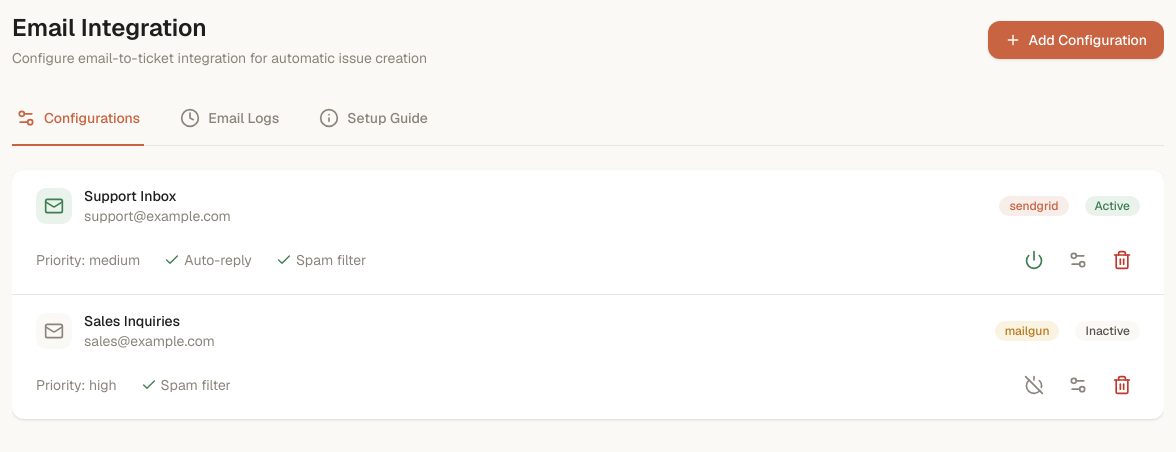
Scenario: EmailIntegrationPage › Email Logs Tab › shows empty state when no logs
The image size is (1176, 452).
Click the button "Email Logs". click: (230, 119)
box: 176,92 -> 283,146
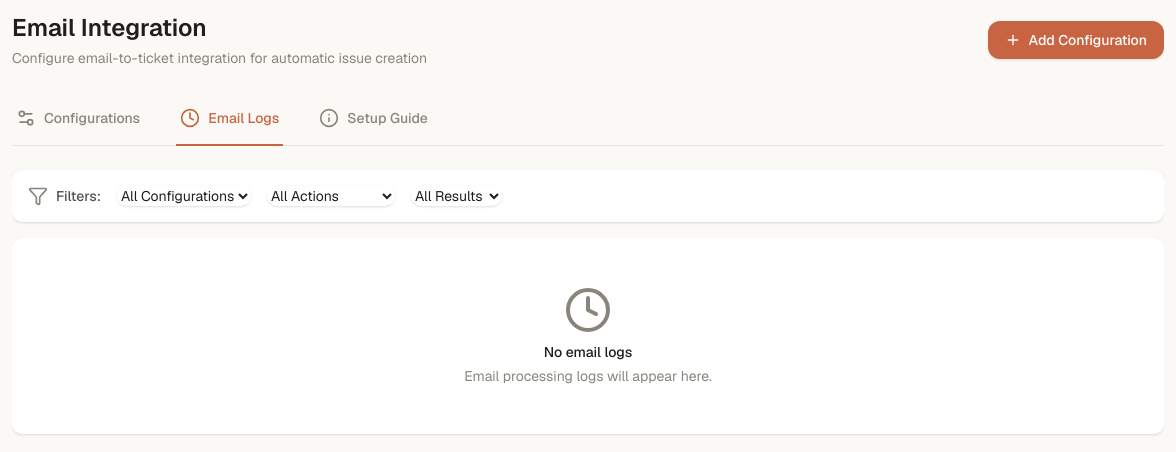
Expected: the heading "No email logs" is shown, 544,343 -> 632,361
